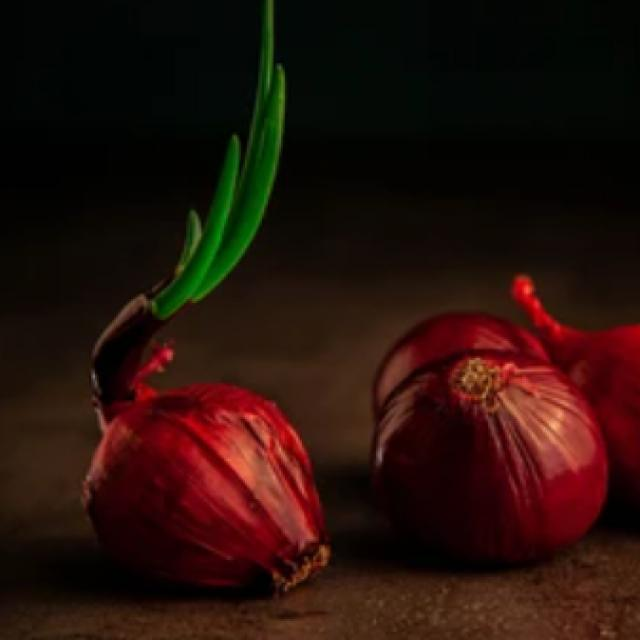sprouting: (85, 65, 285, 364)
